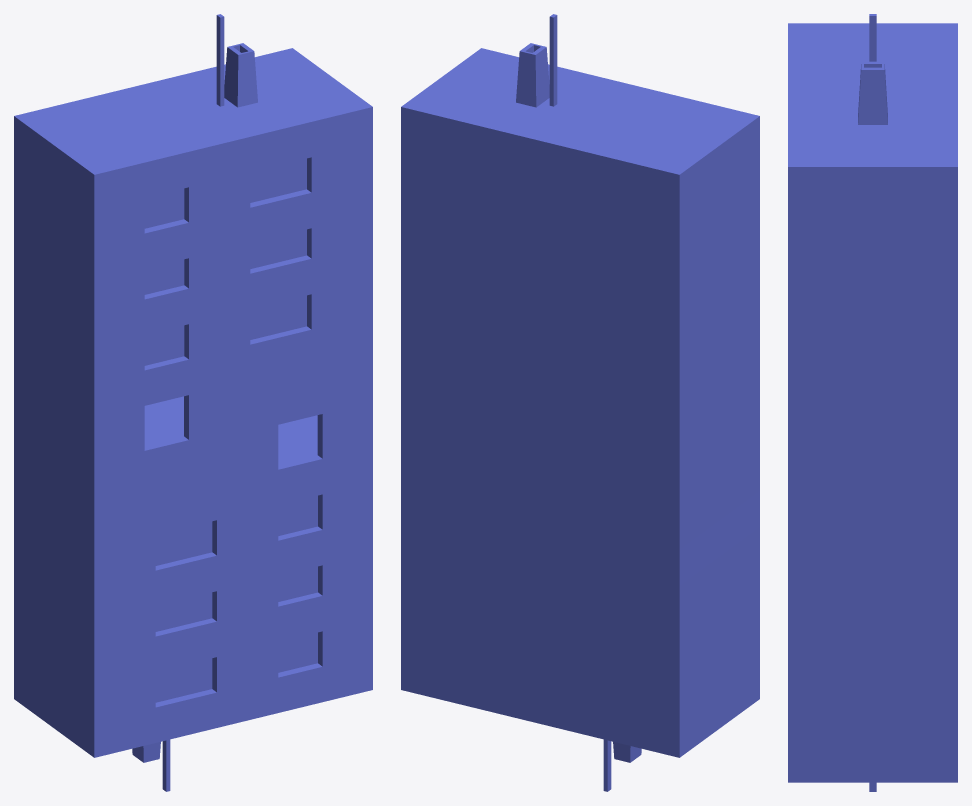
Rendered from house2.fbx.
3 renders of one model, left to right at view 1: azimuth 30°, elevation 25°; view 2: azimuth 150°, elevation 25°; view 3: azimuth 270°, elevation 25°, orthographic. The views are drawn at different scales.
Parts seen in each view (by area): view 1: Cube.001; view 2: Cube.001; view 3: Cube.001.
Part boxes in pixels (x1=…): Cube.001: x1=14, y1=14, x2=372, y2=791; Cube.001: x1=401, y1=14, x2=759, y2=791; Cube.001: x1=788, y1=14, x2=957, y2=791.
Size of the model in its own units: 400 by 1044 by 200.
